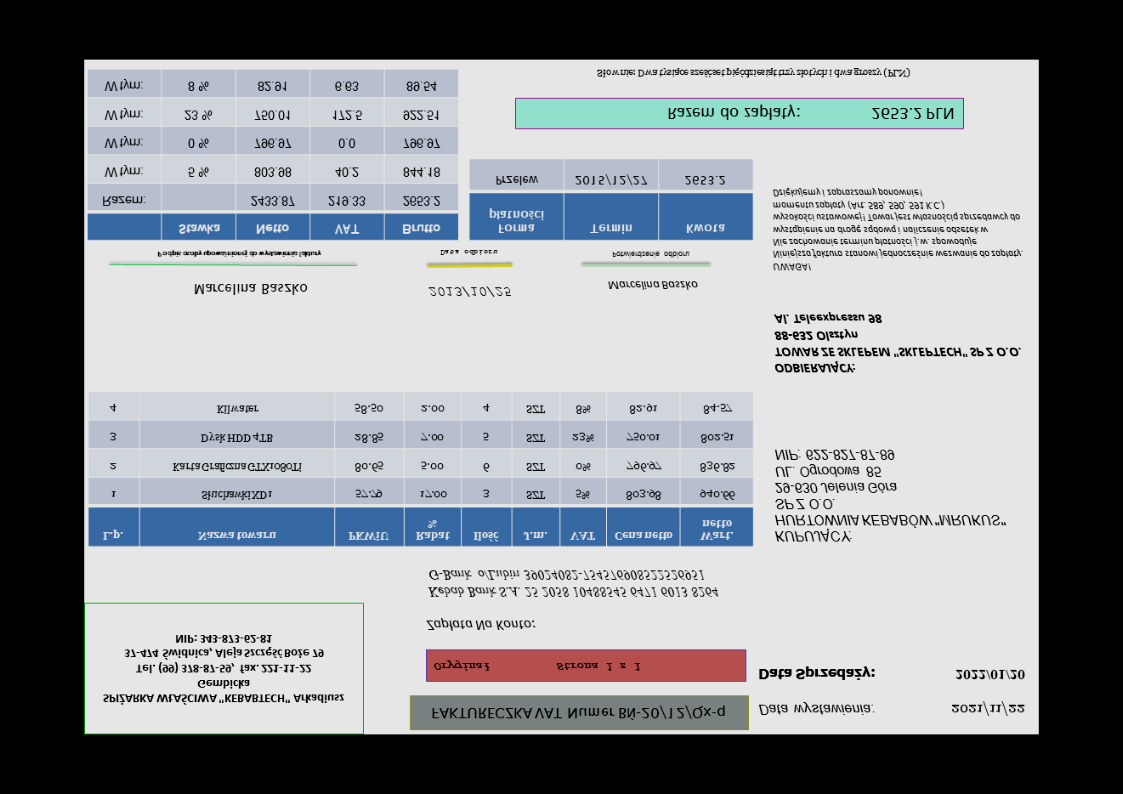Table: (87, 391, 756, 550), (86, 68, 460, 241), (468, 158, 754, 241)
TextBox: (771, 446, 1008, 546), (770, 185, 1023, 274), (100, 632, 345, 709), (771, 310, 1023, 377), (427, 567, 720, 602), (428, 702, 728, 723), (666, 104, 954, 124), (594, 65, 912, 82), (431, 657, 644, 675), (757, 663, 879, 683), (756, 700, 876, 719), (424, 616, 539, 635), (155, 247, 323, 259), (192, 281, 308, 297), (947, 700, 1028, 718), (606, 278, 700, 292), (952, 666, 1029, 683), (426, 285, 514, 299), (610, 249, 691, 260), (439, 247, 499, 259)
